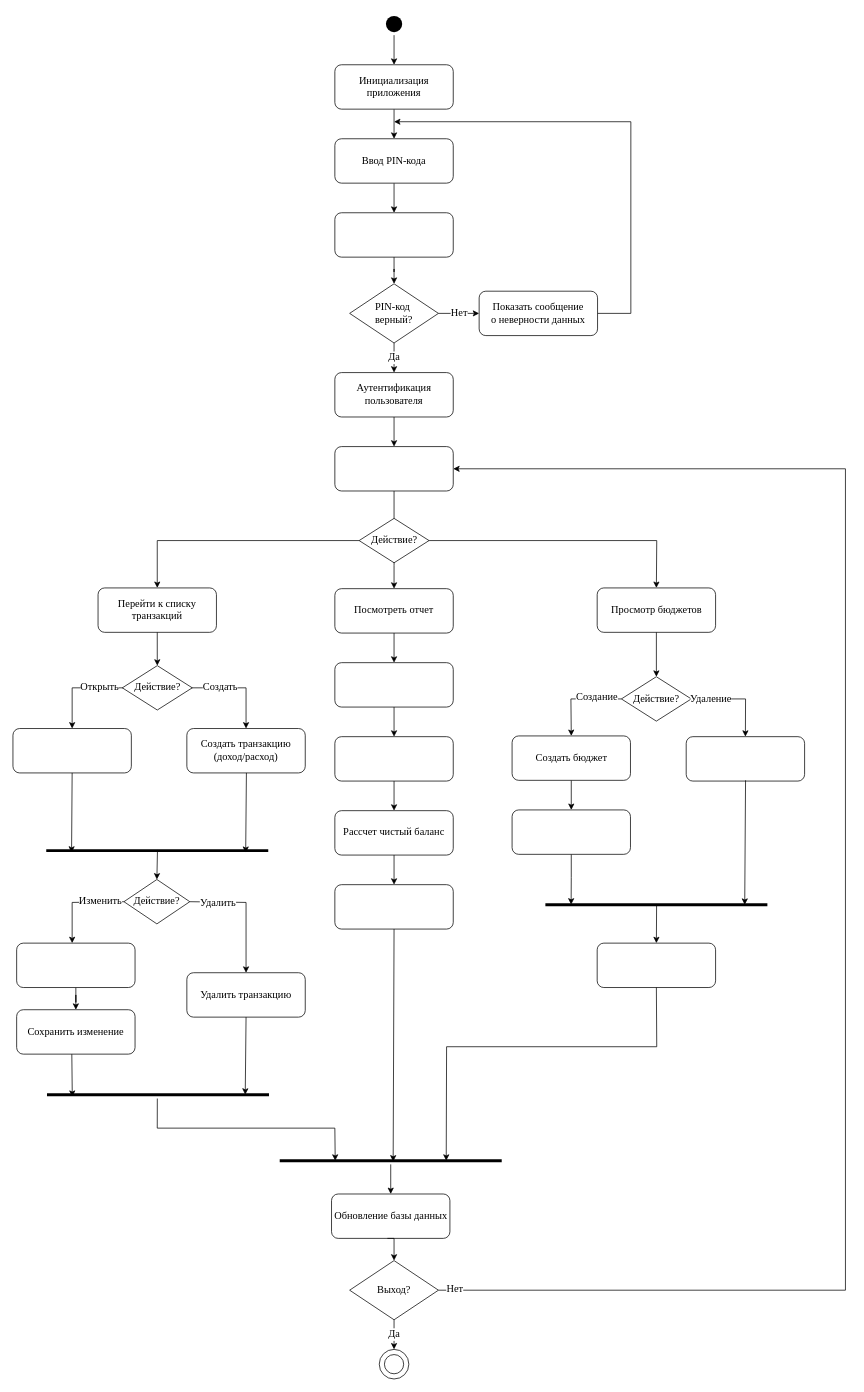
The diagram is 864 pixels wide and 1392 high, and some of its shapes have lost their labels. Here are the shapes that lost their labels. From the top down, the box of each, then its label:
(334, 212, 453, 257): Проверка валидности данных
(334, 446, 453, 491): Отображение главного экрана
(334, 662, 453, 707): Выбрать период
(12, 728, 131, 773): Открыть транзакцию
(334, 736, 453, 781): Загрузка аналитики
(685, 736, 805, 781): Удалить бюджет
(511, 809, 630, 854): Задать параметры
(334, 884, 453, 929): Отобразить тренды
(16, 942, 135, 988): Внести изменения
(596, 942, 716, 988): Пересчет общего бюджета
